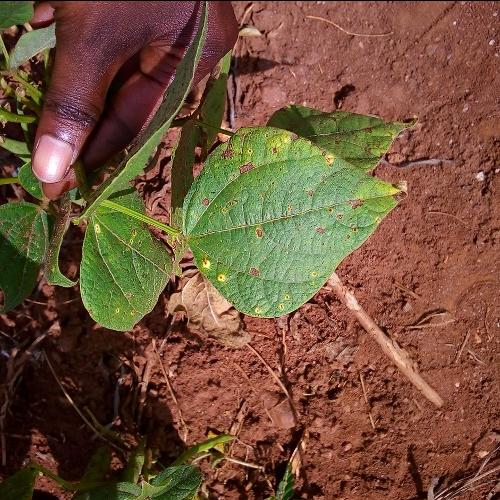hawar: (207, 124, 347, 318)
